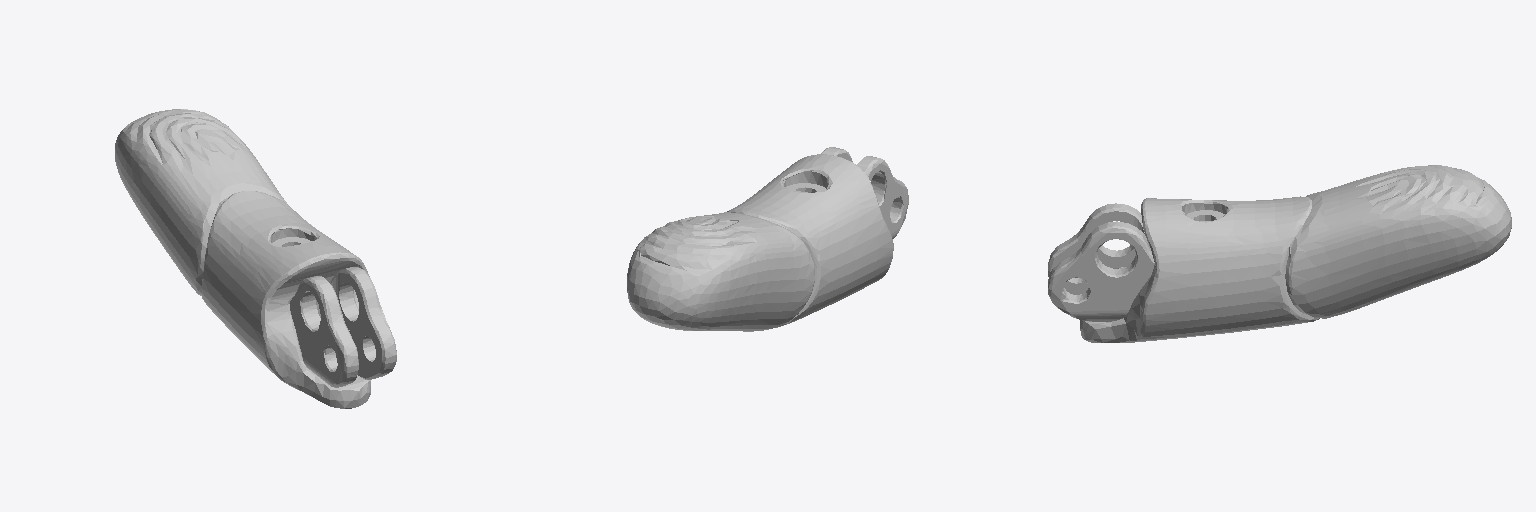
File: R_ring_distal.obj
3 renders of one model, left to right at view 1: azimuth 30°, elevation 25°; view 2: azimuth 150°, elevation 25°; view 3: azimuth 270°, elevation 25°, orthographic.
Parts seen in each view (by area): view 1: R_ring_distal; view 2: R_ring_distal; view 3: R_ring_distal.
Part boxes in pixels (x1,y1,x2,y2): R_ring_distal: (115, 109, 396, 408); R_ring_distal: (627, 147, 908, 331); R_ring_distal: (1048, 165, 1511, 342).
Bounding box in the file's own units: 0.0152 × 0.0199 × 0.0521.